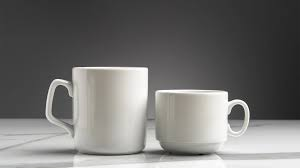mug: (6, 54, 157, 163)
